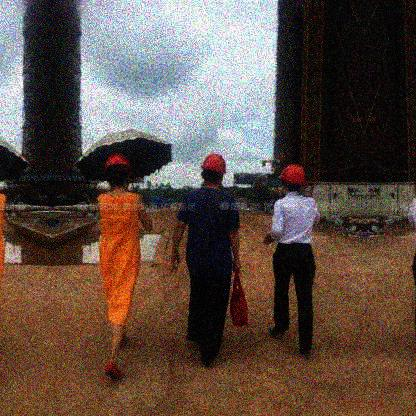helmet: (102, 152, 133, 191), (201, 152, 228, 186), (278, 163, 305, 196)
